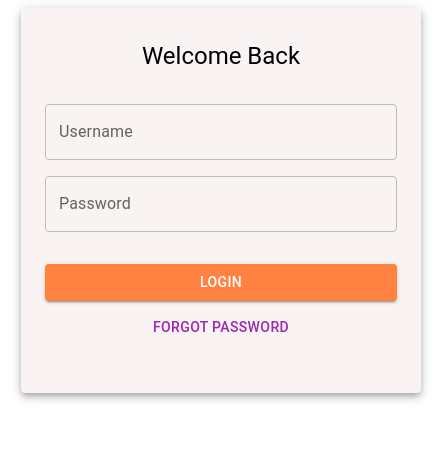
Scenario: LoginPage Component › should show error message on empty input
Click the button with test id "login-button" at (221, 283), box x1=45 y1=264 x2=397 y2=301
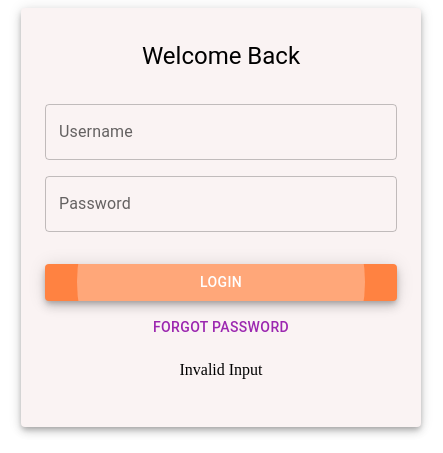
Result: the text with test id "login-error" reads "Invalid Input" at x1=179 y1=361 x2=262 y2=378
